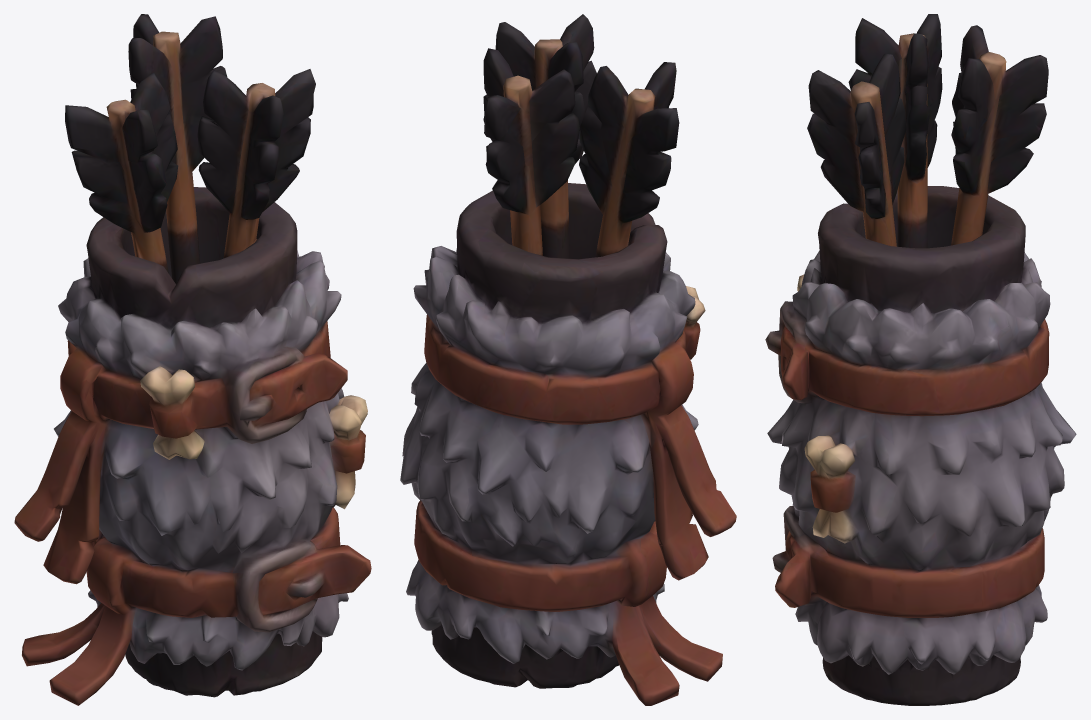
Rendered from Arm_fur_quiver-lUSScK3t.glb.
3 renders of one model, left to right at view 1: azimuth 30°, elevation 25°; view 2: azimuth 150°, elevation 25°; view 3: azimuth 270°, elevation 25°, orthographic.
Visible parts, largest first — view 1: Arm_fur_quiver; view 2: Arm_fur_quiver; view 3: Arm_fur_quiver.
Boxes of the visible parts, <box> form: Arm_fur_quiver: <box>14,14,371,705</box>; Arm_fur_quiver: <box>400,14,736,705</box>; Arm_fur_quiver: <box>765,14,1076,705</box>.
Size of the model in its own units: 0.3924 by 0.75 by 0.3395.
Materials: 1 (1 with a texture image).
